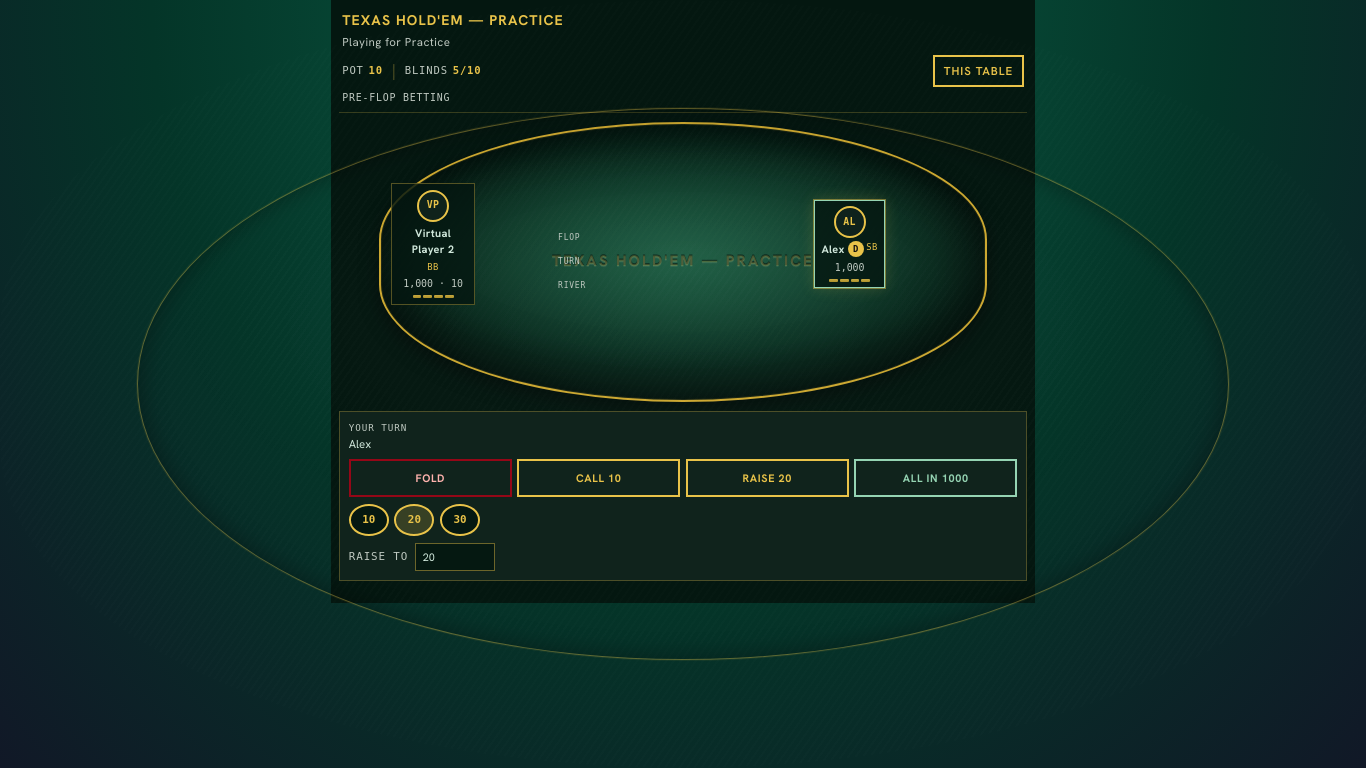
Test case: PokerPanel holdem dispatch › surfaces all-in server errors in panel error area
The image size is (1366, 768).
What coordinates should you click on to do the following:
click the button "All In 1000"
I would click on:
 (936, 478)
Its box is top-left (854, 459), bottom-right (1017, 497).
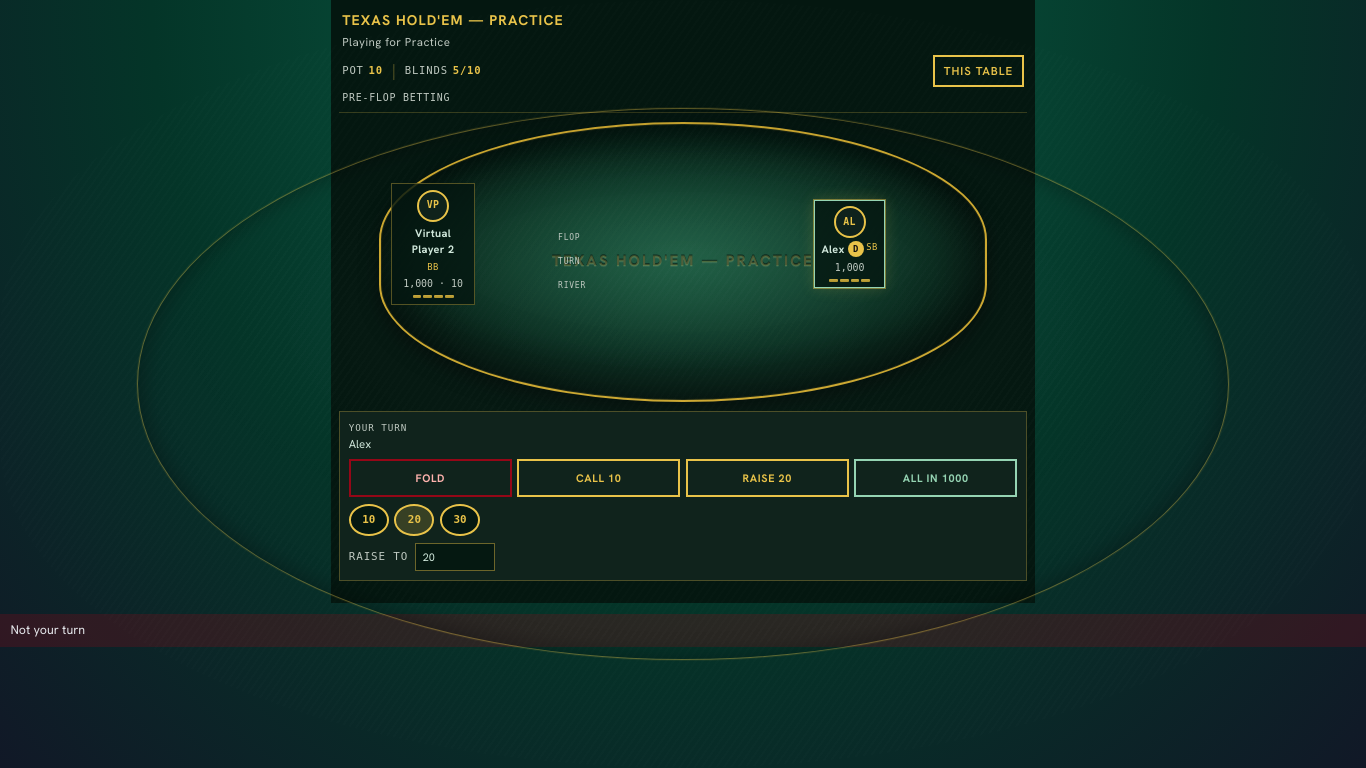
Expected: the message reads "Not your turn", top-left (10, 622), bottom-right (85, 638)
